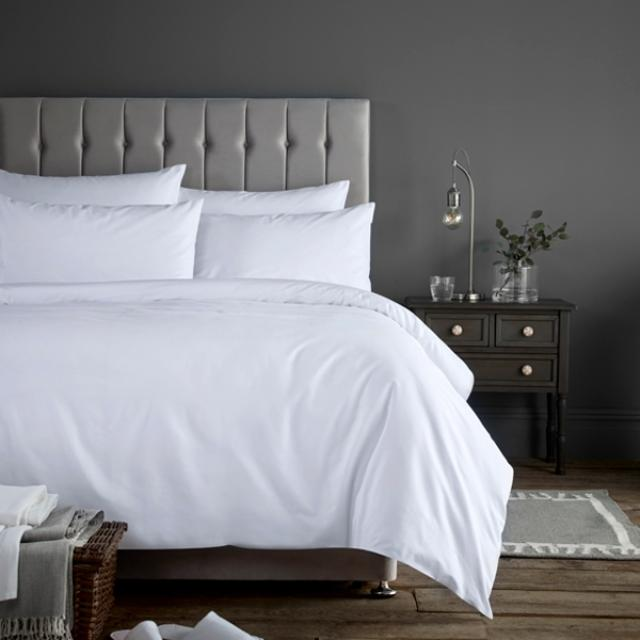pillow: (190, 205, 375, 289), (0, 164, 191, 201)
